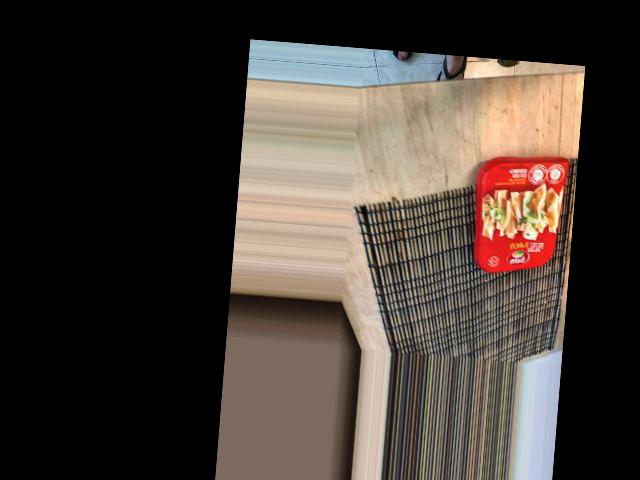cheese: (357, 126, 486, 229)
